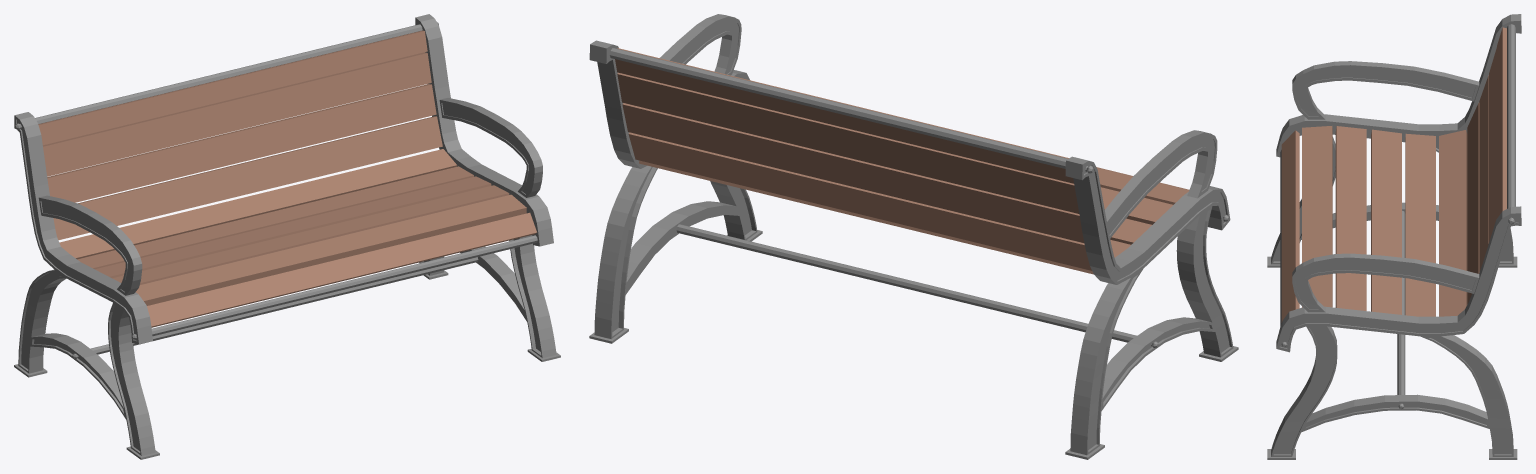
The model's file is bench.fbx.
3 views of the same model, side by side, from view 1: azimuth 30°, elevation 25°; view 2: azimuth 150°, elevation 25°; view 3: azimuth 270°, elevation 25° (orthographic). The views are drawn at different scales.
Parts seen in each view (by area): view 1: Bench; view 2: Bench; view 3: Bench.
Boxes of the visible parts, left/top/right/bottom form: Bench: left=14, top=14, right=560, bottom=459; Bench: left=589, top=14, right=1238, bottom=459; Bench: left=1267, top=14, right=1521, bottom=459.
Size of the model in its own units: 632 by 357 by 335.
